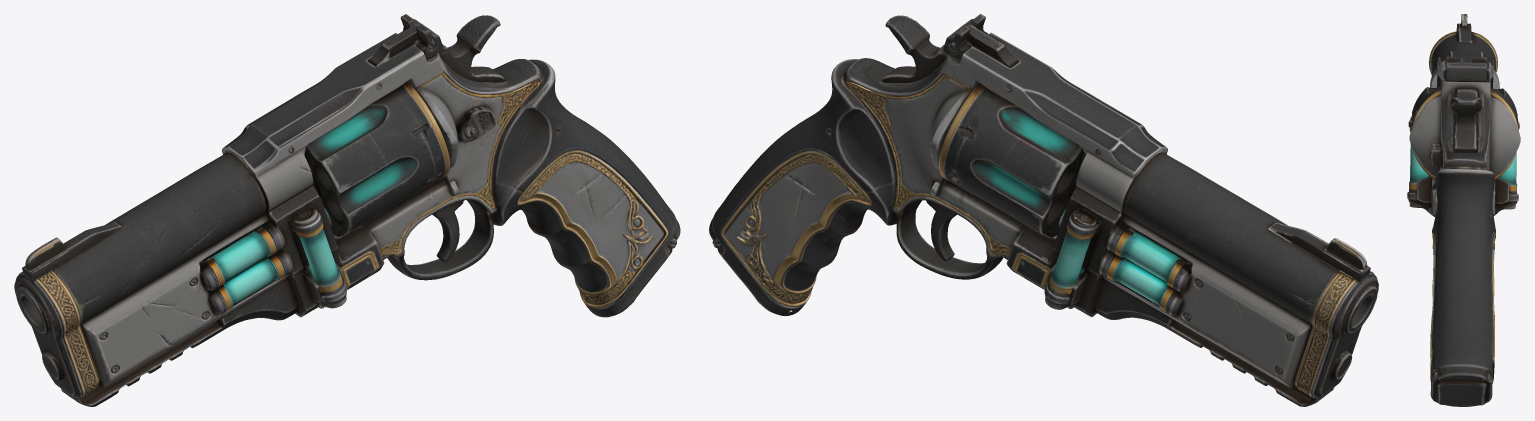
Rendered from hand_cannon.glb.
3 views of the same model, side by side, from view 1: azimuth 30°, elevation 25°; view 2: azimuth 150°, elevation 25°; view 3: azimuth 270°, elevation 25° (orthographic). The views are drawn at different scales.
Parts seen in each view (by area): view 1: tripo_node_ac396630-5d43-4af5-9193-d4628ec2351b; view 2: tripo_node_ac396630-5d43-4af5-9193-d4628ec2351b; view 3: tripo_node_ac396630-5d43-4af5-9193-d4628ec2351b.
Part boxes in pixels (x1,y1,x2,y2): tripo_node_ac396630-5d43-4af5-9193-d4628ec2351b: (14,14,680,406); tripo_node_ac396630-5d43-4af5-9193-d4628ec2351b: (709,14,1378,406); tripo_node_ac396630-5d43-4af5-9193-d4628ec2351b: (1407,14,1520,406).
Bounding box in the file's own units: 0.34 × 0.1667 × 0.0616.
1 material, 1 textured.
